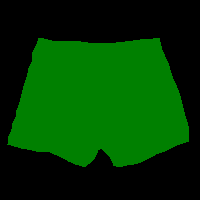mutande: (7, 37, 189, 167)
